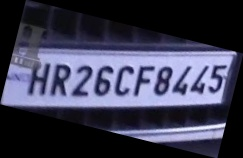character: (26, 62, 50, 96), (70, 64, 93, 96), (49, 63, 70, 98), (133, 64, 155, 96), (93, 64, 114, 96), (114, 65, 133, 96), (172, 64, 191, 95), (189, 63, 208, 94), (153, 66, 173, 95), (208, 64, 226, 92)
